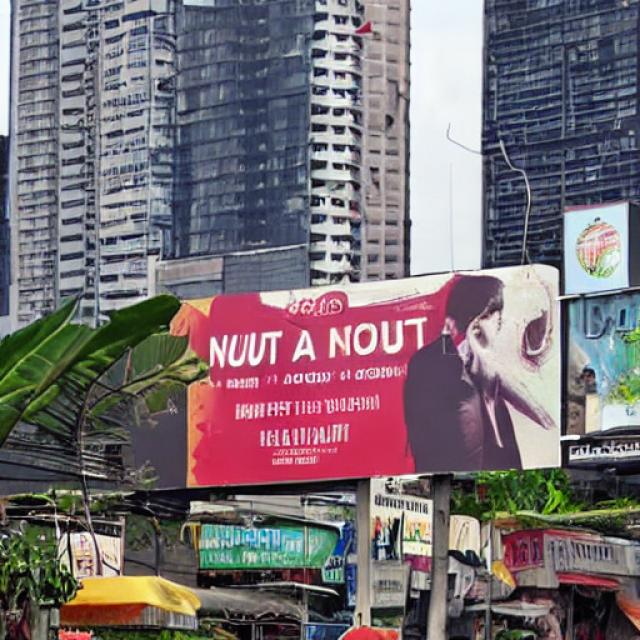Billboard: (174, 263, 566, 488)
